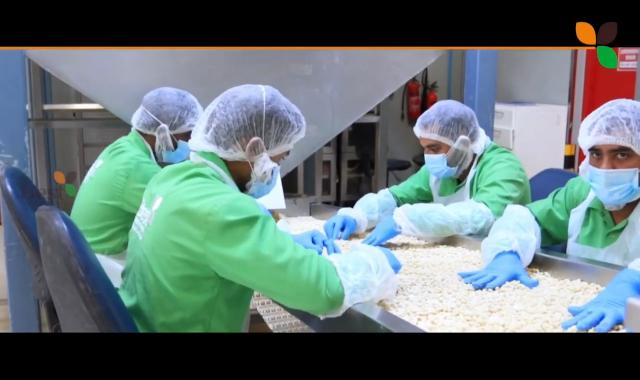hairnet: (197, 83, 313, 165), (574, 95, 640, 173), (416, 98, 484, 167), (130, 85, 202, 144)
